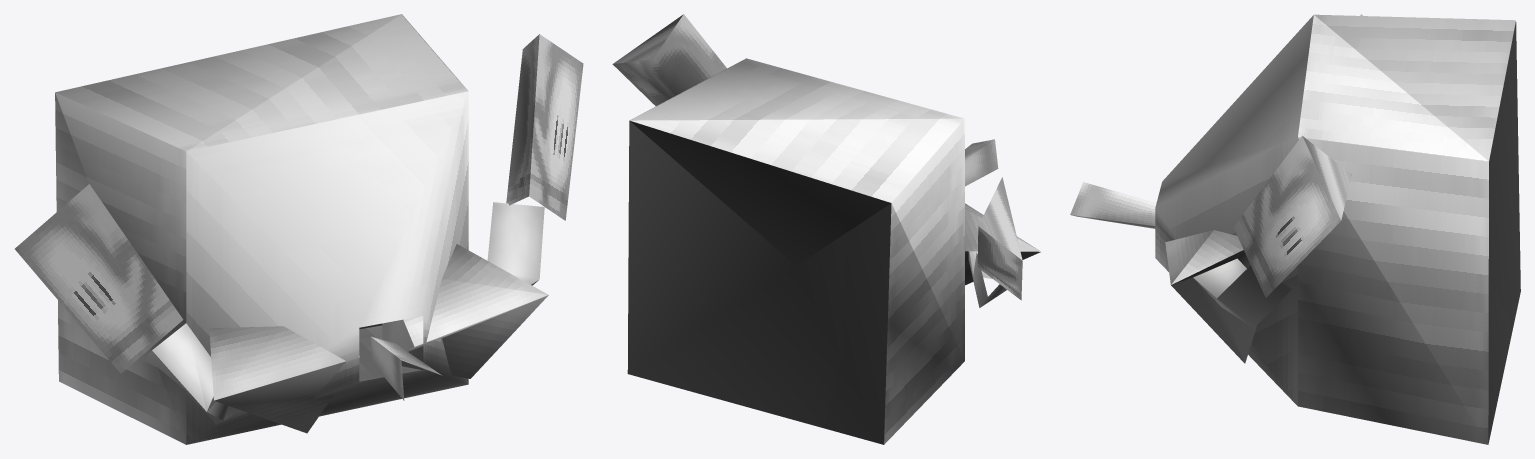
The model's file is torso_sd_250.glb.
3 renders of one model, left to right at view 1: azimuth 30°, elevation 25°; view 2: azimuth 150°, elevation 25°; view 3: azimuth 270°, elevation 25°, orthographic. The views are drawn at different scales.
Visible parts, largest first — view 1: torso-top, torso-bot, hands (×2), sleeves, arms, neck; view 2: torso-bot, hands (×2), neck, sleeves, arms; view 3: torso-bot, torso-top, hands, sleeves, arms, neck.
Boxes of the visible parts, x1=… form: torso-top: x1=186, y1=91, x2=468, y2=444; torso-bot: x1=55, y1=14, x2=468, y2=444; hands (×2): x1=15, y1=34, x2=583, y2=373; sleeves: x1=209, y1=244, x2=548, y2=433; arms: x1=146, y1=202, x2=544, y2=420; neck: x1=370, y1=336, x2=442, y2=400; torso-bot: x1=627, y1=58, x2=964, y2=444; hands (×2): x1=612, y1=14, x2=1022, y2=300; neck: x1=965, y1=139, x2=998, y2=186; sleeves: x1=965, y1=203, x2=1041, y2=285; arms: x1=968, y1=251, x2=1006, y2=307; torso-bot: x1=1298, y1=14, x2=1520, y2=444; torso-top: x1=1155, y1=15, x2=1313, y2=405; hands: x1=1233, y1=135, x2=1351, y2=297; sleeves: x1=1165, y1=230, x2=1256, y2=363; arms: x1=1193, y1=258, x2=1291, y2=327; neck: x1=1070, y1=182, x2=1156, y2=228.
Size of the model in its own units: 3.43 by 2.18 by 2.74.
6 materials, 6 textured.
